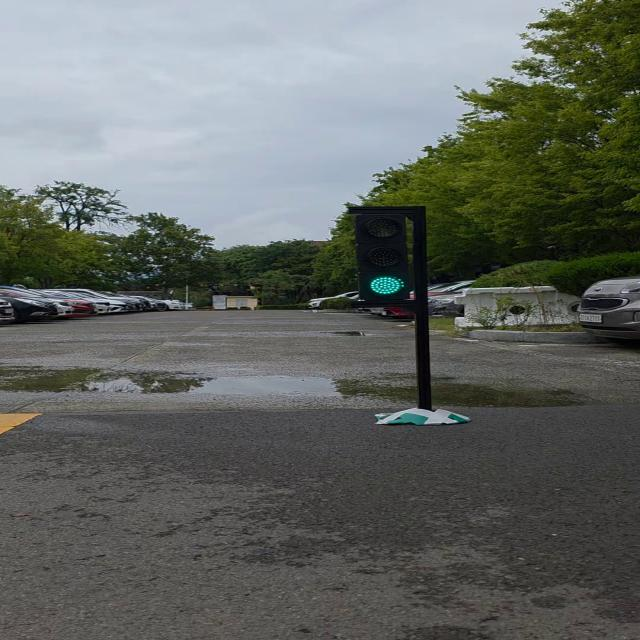green: (352, 208, 423, 306)
